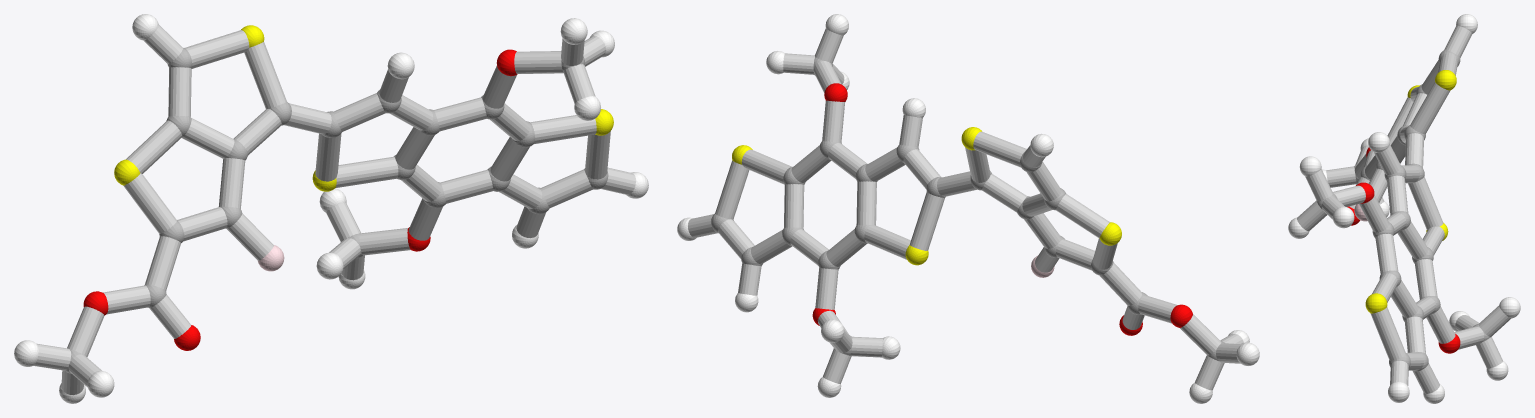
File: color.glb
The picture shows the model from 3 angles, left to right: view 1: azimuth 30°, elevation 25°; view 2: azimuth 150°, elevation 25°; view 3: azimuth 270°, elevation 25°; orthographic projection. The views are drawn at different scales.
Parts seen in each view (by area): view 1: grp15205, grp8689, grp1, grp13395, grp7241; view 2: grp15205, grp8689, grp1, grp7241, grp13395; view 3: grp15205, grp8689, grp1, grp7241, grp13395.
Part boxes in pixels (x1,y1,x2,y2): grp15205: (33,25,636,395); grp8689: (14,14,648,403); grp1: (65,48,608,373); grp13395: (83,49,517,350); grp7241: (114,25,613,191); grp15205: (688,28,1243,390); grp8689: (677,14,1259,403); grp1: (711,57,1224,360); grp7241: (732,127,1121,265); grp13395: (812,83,1192,335); grp15205: (1297,25,1511,393); grp8689: (1288,14,1520,403); grp1: (1317,50,1490,371); grp7241: (1365,70,1456,313); grp13395: (1347,147,1460,353).
Size of the model in its own units: 16.62 by 8.38 by 6.39.
